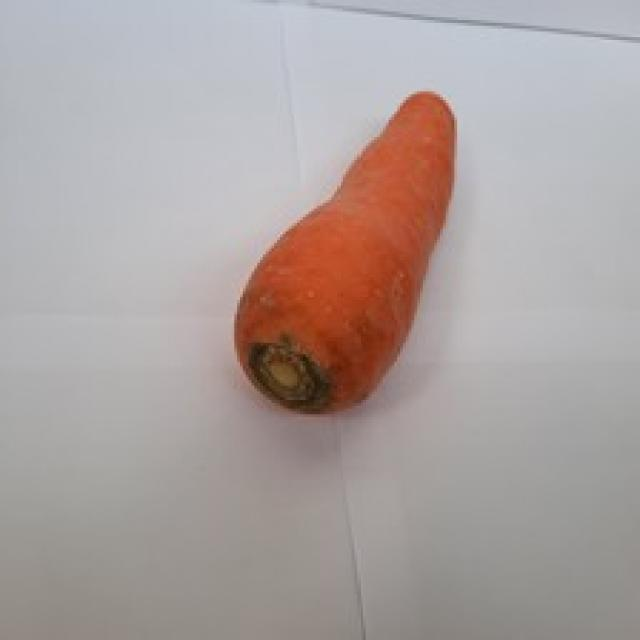carrot: (232, 87, 459, 410)
